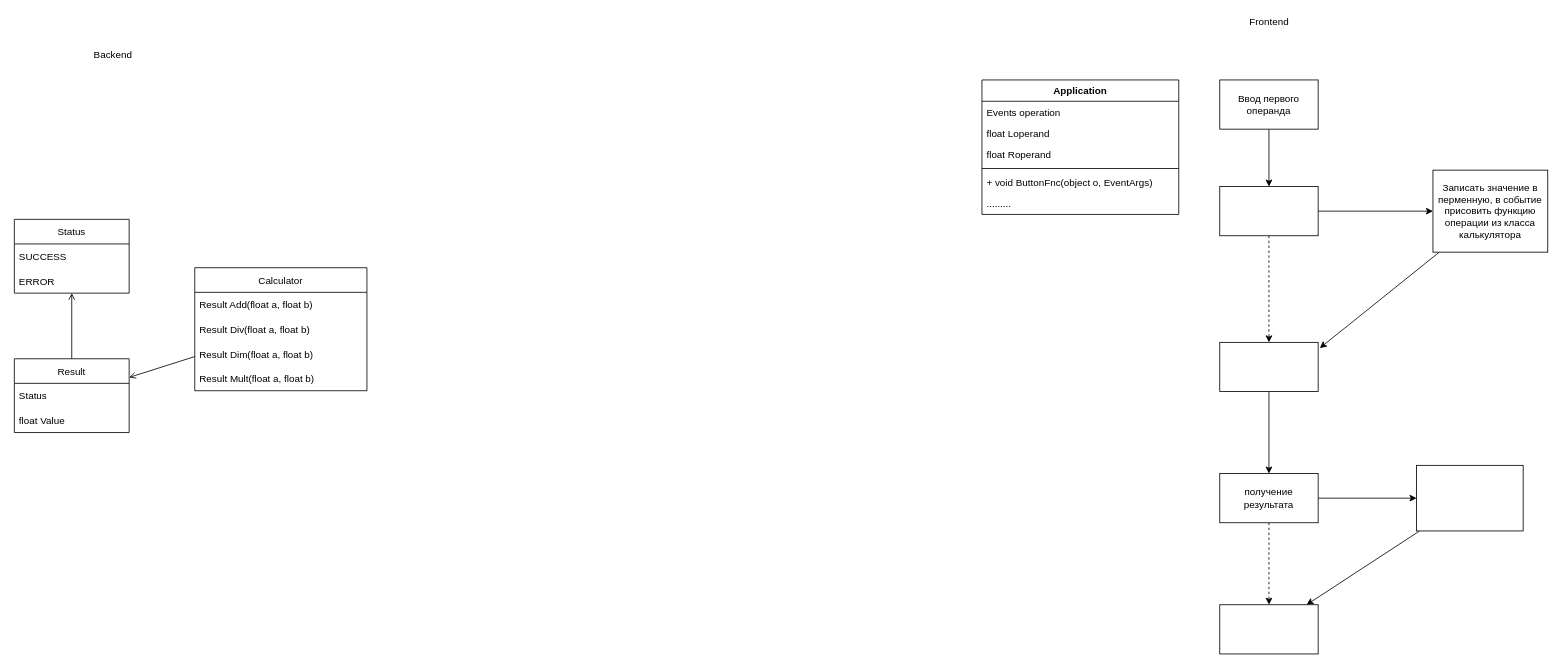
Some shapes in this 1562 by 668 pixel diagram are drawn without their labels. The shapes that lost their labels are listed below. From the top down, each one's centre as x and y in pixels, then its label:
At pixel 1268 211: "Ввод Операции".
At pixel 1268 367: "Ввод второго операнда".
At pixel 1469 498: "Запись значения во вторую переменную выполнение события с параметрами".
At pixel 1268 629: "Вывод результата".
